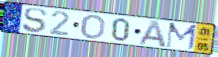0: (111, 18, 133, 43)
2: (47, 10, 71, 37)
A: (138, 20, 169, 49)
M: (164, 22, 198, 52)
O: (79, 13, 107, 40)
S: (22, 8, 49, 34)
